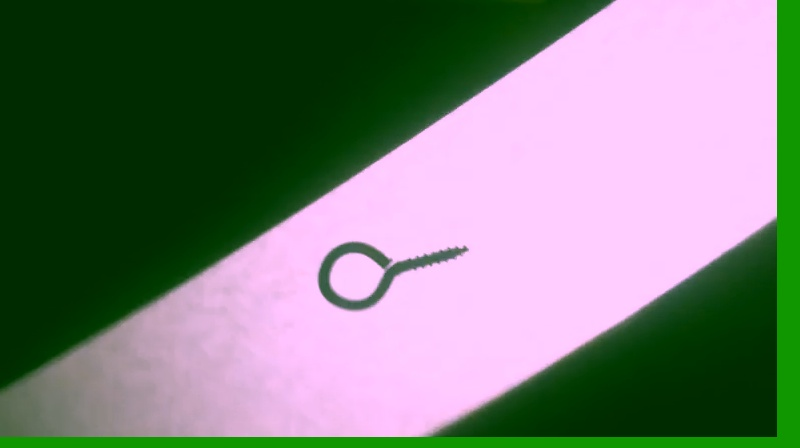O001: (314, 236, 472, 312)
